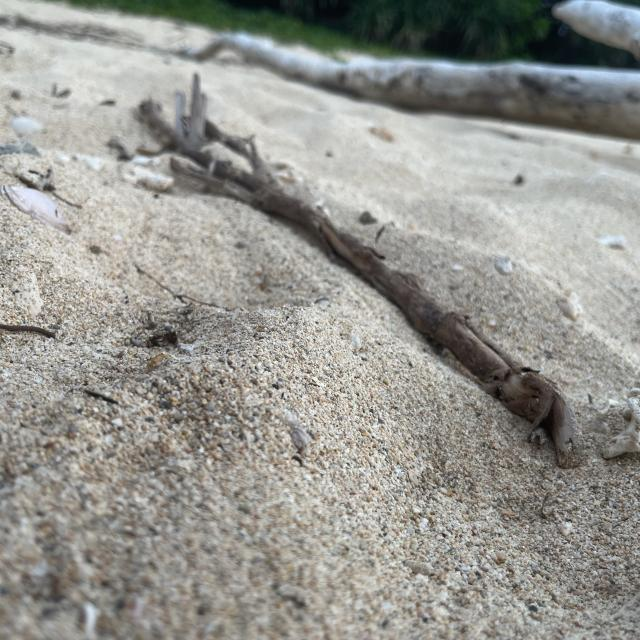stick: (141, 94, 602, 450)
